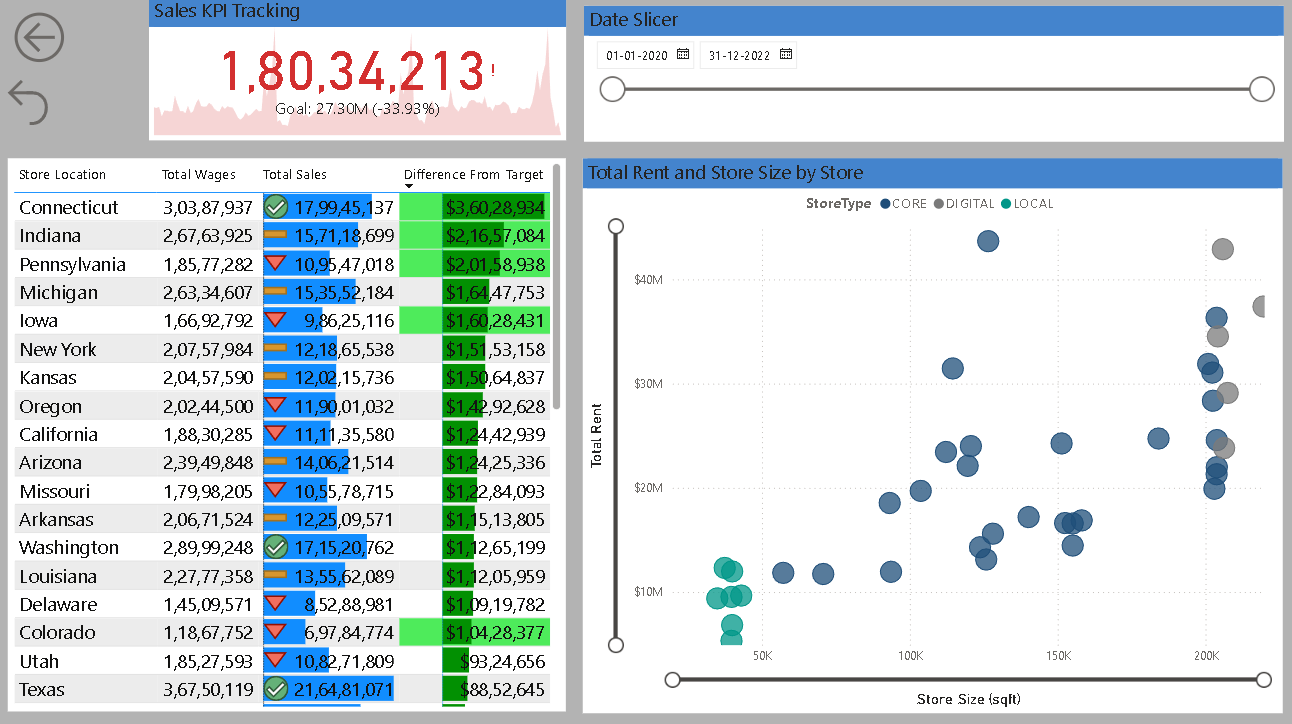

The dashboard page shown, as its layout file describes it:
{"tool":"powerbi","page":{"name":"Cost & Target","canvas":[1280,720],"ordinal":1},"visuals":[{"type":"scatterChart","title":"Total Rent and Store Size by Store","fields":{"X":["Reatil Cost.Store Size (sqft)"],"Y":["Reatil Cost.Total Rent"],"Category":["Store Details.StoreID"],"Series":["Store Details.StoreType"]},"box":[577.1,158.7,691.1,546.8],"z":0},{"type":"kpi","title":"Sales KPI Tracking","fields":{"Indicator":["Retail Sales.Total Sales"],"TrendLine":["Date.Date"],"Goal":["Reatil Cost.Total Target"]},"box":[148,0,412.1,141.8],"z":1000},{"type":"tableEx","fields":{"Values":["Store Details.Store Location","Reatil Cost.Total Wages","Retail Sales.Total Sales","Reatil Cost.Difference From Target"]},"box":[8.6,159,551.5,546.6],"z":2000},{"type":"slicer","title":"Date Slicer","fields":{"Values":["Date.Date"]},"box":[577.2,8.6,690.9,133.3],"z":3000},{"type":"actionButton","box":[0,75.8,148,57.5],"z":4000},{"type":"actionButton","box":[8.6,8.6,130.8,62.4],"z":5000}]}

Visuals, with their boxes in screenshot pixels (x1, y1, x2, y2), scaled from the page's 1280x720 canvas onto the 1292x724 screenshot:
"Total Rent and Store Size by Store" scatterChart: l=583, t=160, r=1280, b=709
"Sales KPI Tracking" kpi: l=149, t=0, r=565, b=143
tableEx - Store Details.Store Location x Reatil Cost.Total Wages: l=9, t=160, r=565, b=710
"Date Slicer" slicer: l=583, t=9, r=1280, b=143
actionButton: l=0, t=76, r=149, b=134
actionButton: l=9, t=9, r=141, b=71
